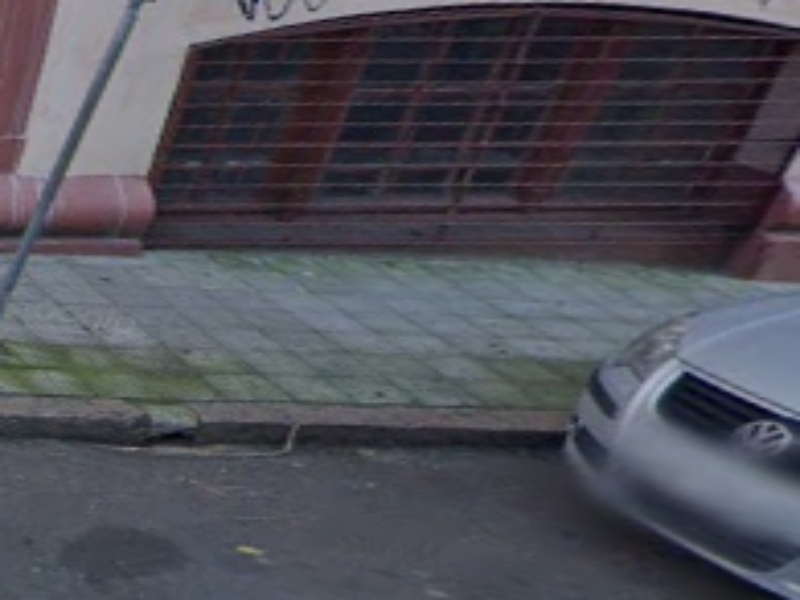v69: (5, 338, 557, 488)
